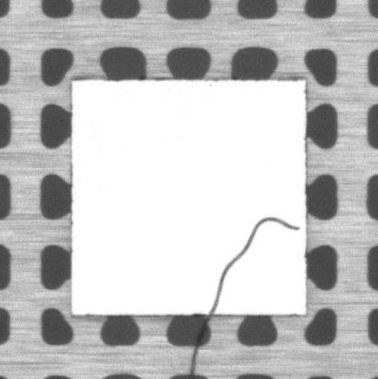DIE_INK: (209, 216, 301, 311)
